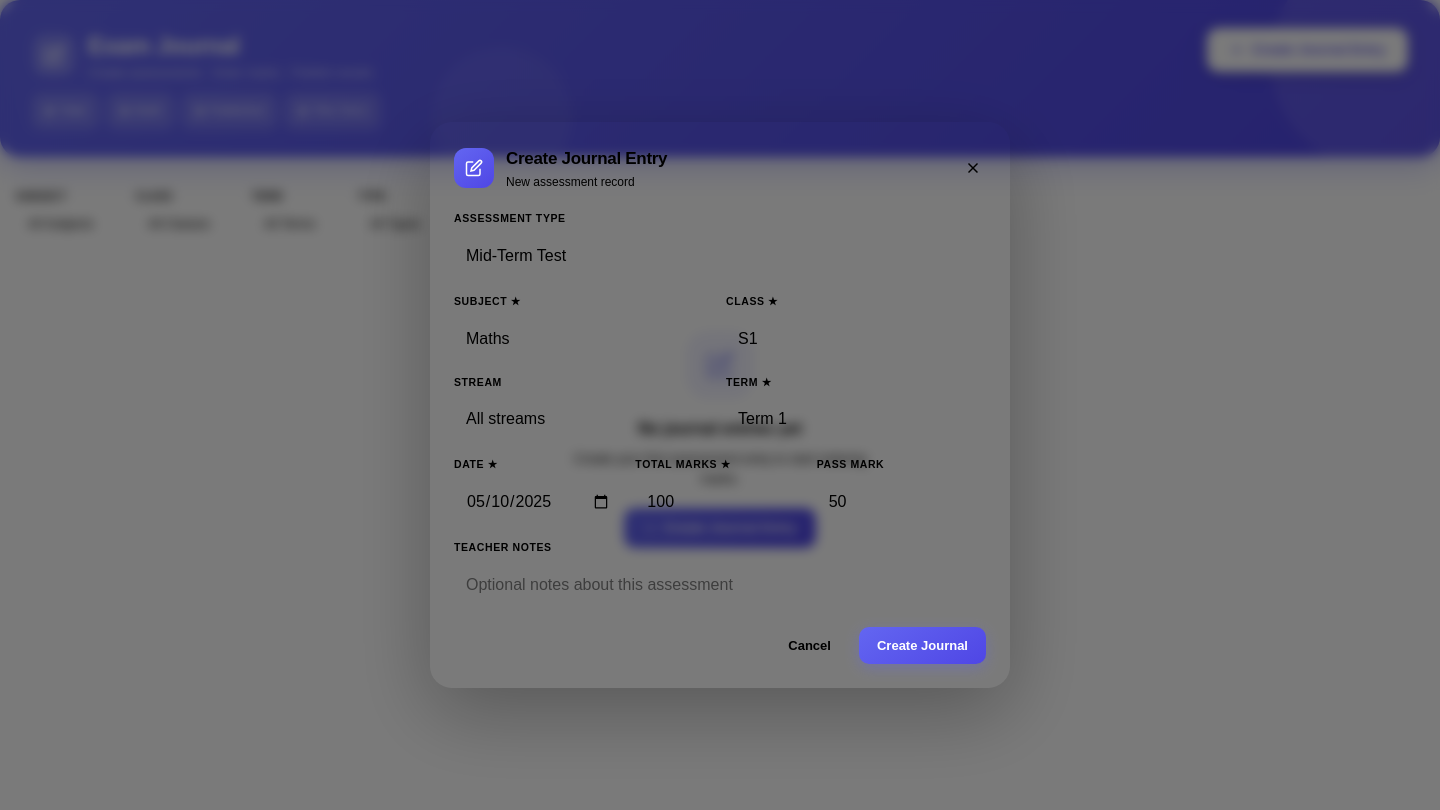
Scenario: ExamJournalPage › Opening via a past event (state.prefill from EventTimeline) › does not reopen the modal on a subsequent render once state.prefill has been consumed
The image size is (1440, 810).
Expected: the text "Assessment Type" is shown, 454,212 -> 566,224
Closing manually should not leave it able to reopen from stale state
Click the 1st button.
click(973, 168)  # box 960,155 -> 986,181
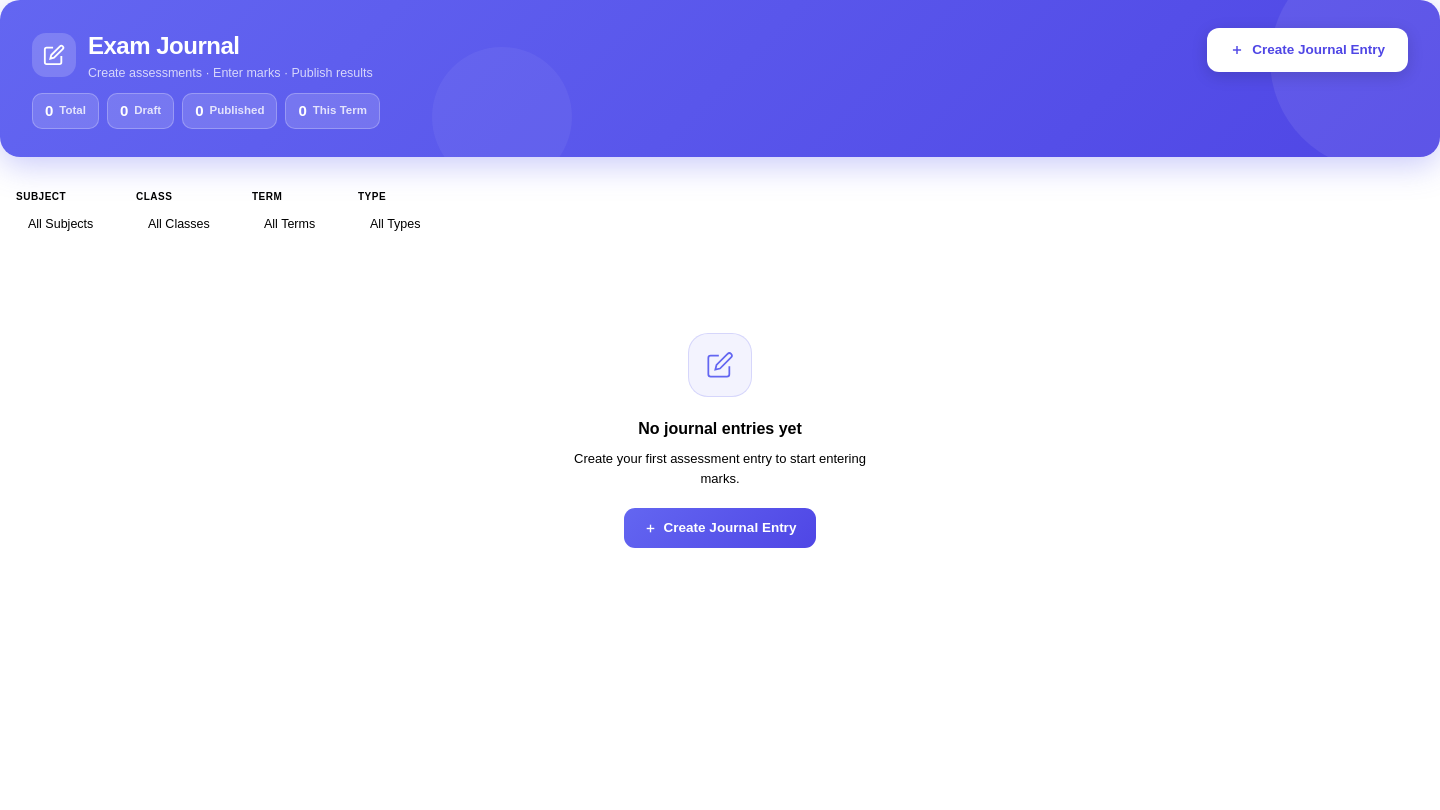
Result: the text "Assessment Type" is gone
